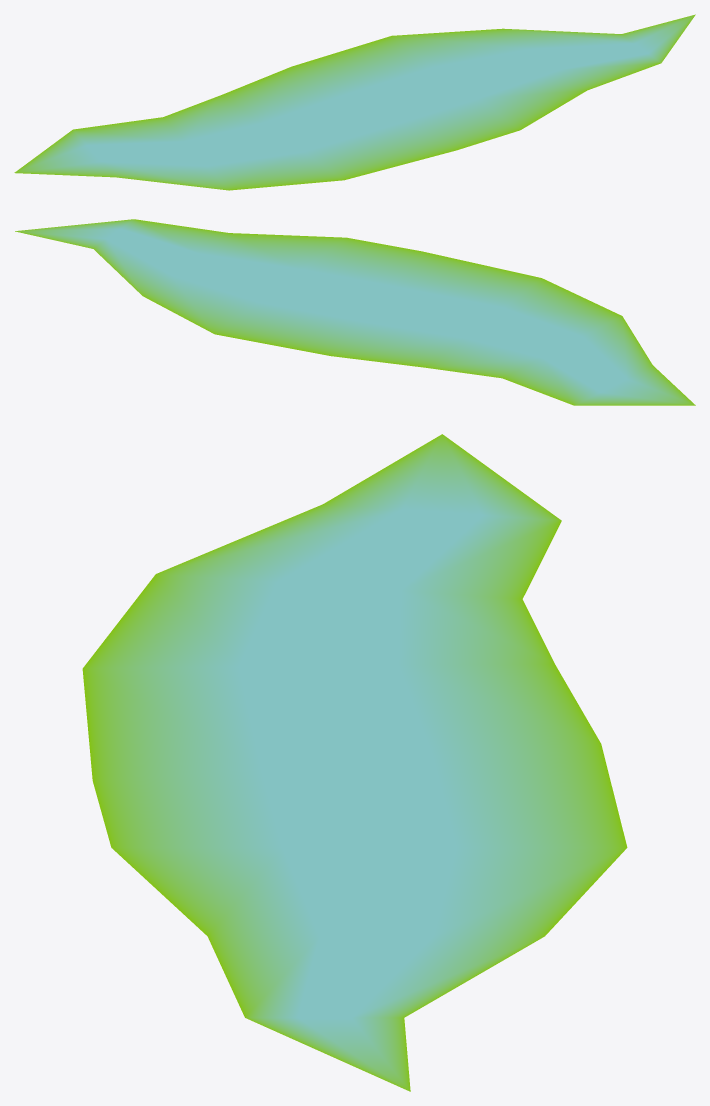
Rendered from TestFlow.fbx.
The picture shows the model from 3 angles, top to bottom: view 1: azimuth 30°, elevation 25°; view 2: azimuth 150°, elevation 25°; view 3: azimuth 270°, elevation 25°; orthographic projection. The views are drawn at different scales.
Visible parts, largest first — view 1: Plane; view 2: Plane; view 3: Plane.
Boxes of the visible parts, left/top/right/bottom form: Plane: left=14, top=14, right=695, bottom=190; Plane: left=15, top=219, right=695, bottom=405; Plane: left=82, top=434, right=627, bottom=1091.
Size of the model in its own units: 6.03 by 3.44e-07 by 2.11.
